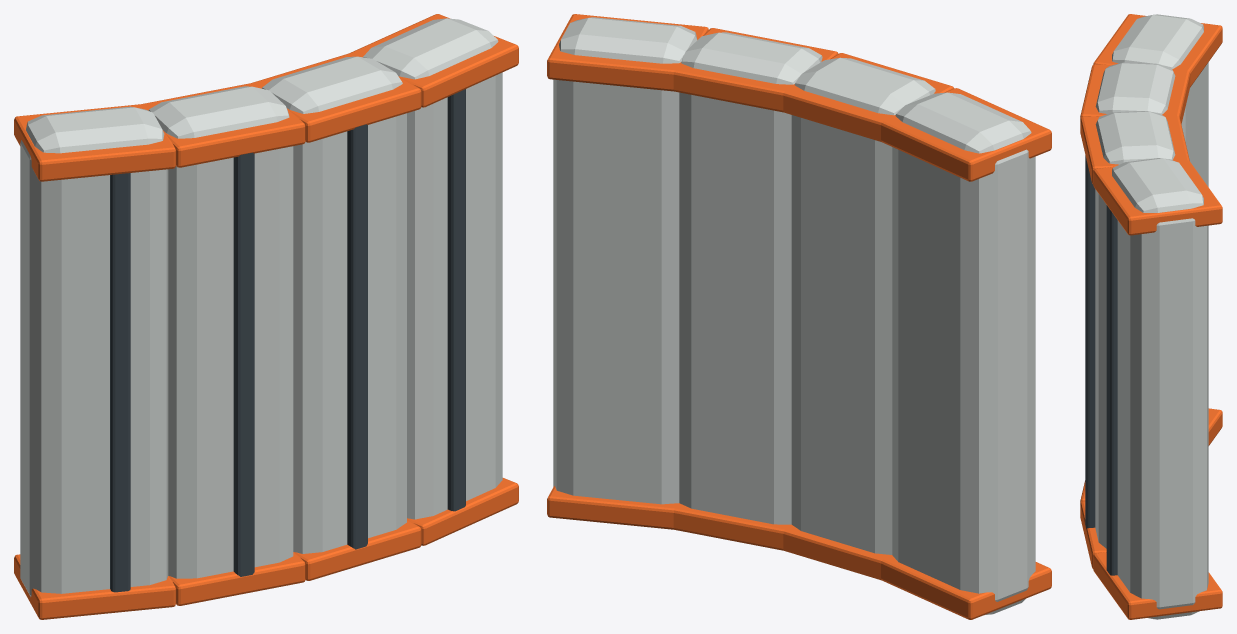
File: LPK_Hull_Exterior_Curve45.fbx
3 views of the same model, side by side, from view 1: azimuth 30°, elevation 25°; view 2: azimuth 150°, elevation 25°; view 3: azimuth 270°, elevation 25° (orthographic). The views are drawn at different scales.
Visible parts, largest first — view 1: HullSegment, HullSegment.001, HullSegment.002, HullSegment.003, OuterRib.001, OuterRib.002, OuterRib, OuterRib.003, HullRim.004, HullRim.005, HullRim, HullRim.006 (+4 smaller); view 2: HullSegment, HullSegment.003, HullSegment.002, HullSegment.001, HullRim.004, HullRim.007, HullRim, HullRim.006, HullRim.005, HullRim.003, HullRim.002, HullRim.001; view 3: HullSegment.003, HullSegment.002, HullSegment, OuterRib.003, OuterRib.002, HullSegment.001, HullRim.007, HullRim.003, HullRim.004, HullRim.006, HullRim.005, HullRim.002 (+1 smaller).
Part boxes in pixels (x1,y1,x2,y2): HullSegment: (20, 106, 168, 596); HullSegment.001: (148, 86, 293, 578); HullSegment.002: (262, 56, 406, 553); HullSegment.003: (363, 18, 502, 519); OuterRib.001: (233, 152, 254, 576); OuterRib.002: (347, 124, 367, 549); OuterRib: (110, 173, 130, 592); OuterRib.003: (447, 89, 465, 511); HullRim.004: (14, 104, 175, 181); HullRim.005: (136, 82, 305, 167); HullRim: (14, 554, 175, 619); HullRim.006: (251, 53, 421, 142); HullSegment: (892, 92, 1035, 615); HullSegment.003: (553, 17, 697, 504); HullSegment.002: (679, 32, 822, 524); HullSegment.001: (791, 57, 935, 554); HullRim.004: (879, 88, 1051, 181); HullRim.007: (547, 14, 708, 91); HullRim: (881, 558, 1051, 619); HullRim.006: (671, 28, 838, 112); HullRim.005: (780, 53, 953, 141); HullRim.003: (547, 486, 674, 529); HullRim.002: (669, 503, 784, 550); HullRim.001: (780, 524, 894, 580); HullSegment.003: (1112, 158, 1208, 619); HullSegment.002: (1095, 111, 1175, 548); HullSegment: (1112, 14, 1208, 186); OuterRib.003: (1106, 205, 1117, 575); OuterRib.002: (1085, 155, 1095, 528); HullSegment.001: (1095, 62, 1175, 114); HullRim.007: (1093, 159, 1222, 235); HullRim.003: (1093, 552, 1222, 619); HullRim.004: (1093, 14, 1222, 87); HullRim.006: (1080, 113, 1189, 184); HullRim.005: (1080, 64, 1190, 124); HullRim.002: (1080, 501, 1106, 568).
Size of the model in its own units: 3.32 by 3.2 by 0.9736.
